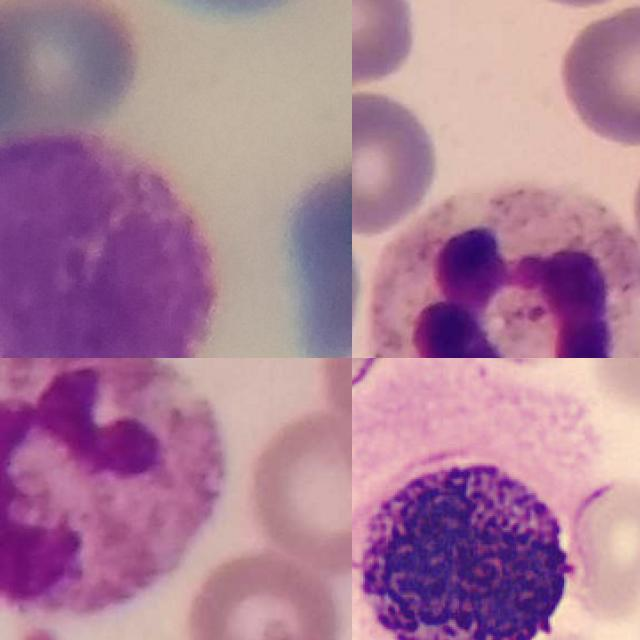Basophil: (0, 127, 219, 358), (352, 441, 587, 640)
Neutrophil: (0, 358, 225, 616), (366, 184, 640, 358)
RBC: (562, 470, 640, 621)
